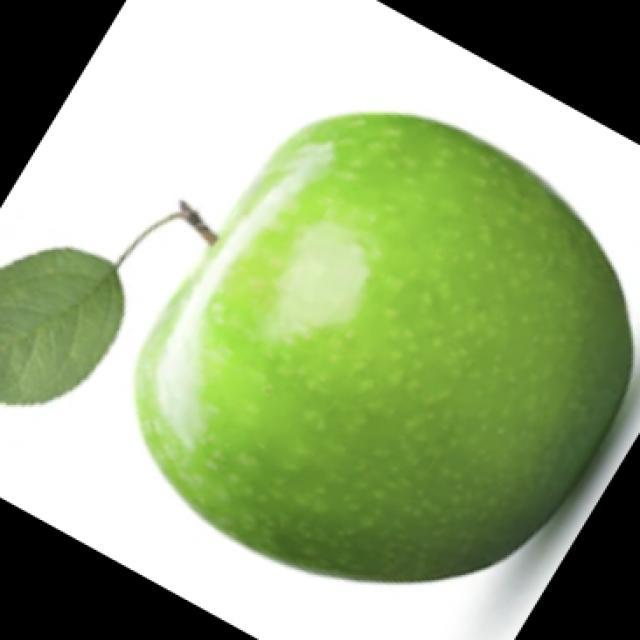Fresh Apple: (141, 114, 640, 593)
